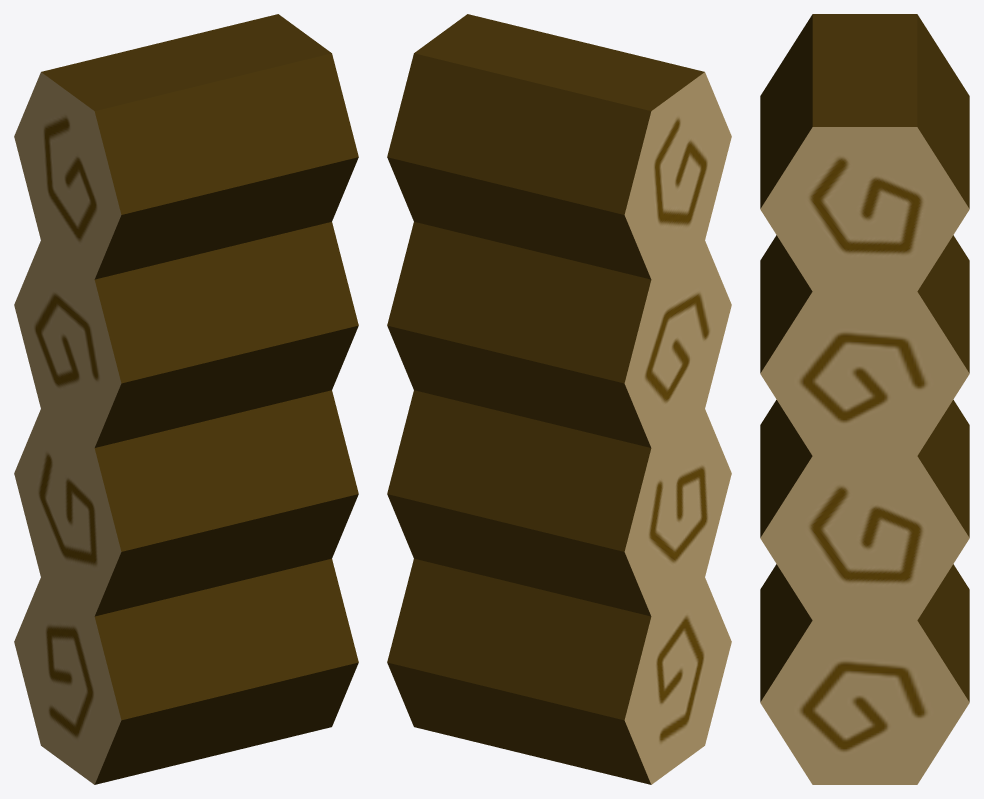
The model's file is Wall_1x4.fbx.
The picture shows the model from 3 angles, left to right: view 1: azimuth 30°, elevation 25°; view 2: azimuth 150°, elevation 25°; view 3: azimuth 270°, elevation 25°; orthographic projection. The views are drawn at different scales.
Parts seen in each view (by area): view 1: Wall_1x4; view 2: Wall_1x4; view 3: Wall_1x4.
Part boxes in pixels (<box>): Wall_1x4: <box>14,14,358,784</box>; Wall_1x4: <box>387,14,731,784</box>; Wall_1x4: <box>760,14,969,784</box>.
Size of the model in its own units: 2.55 by 6.93 by 2.
